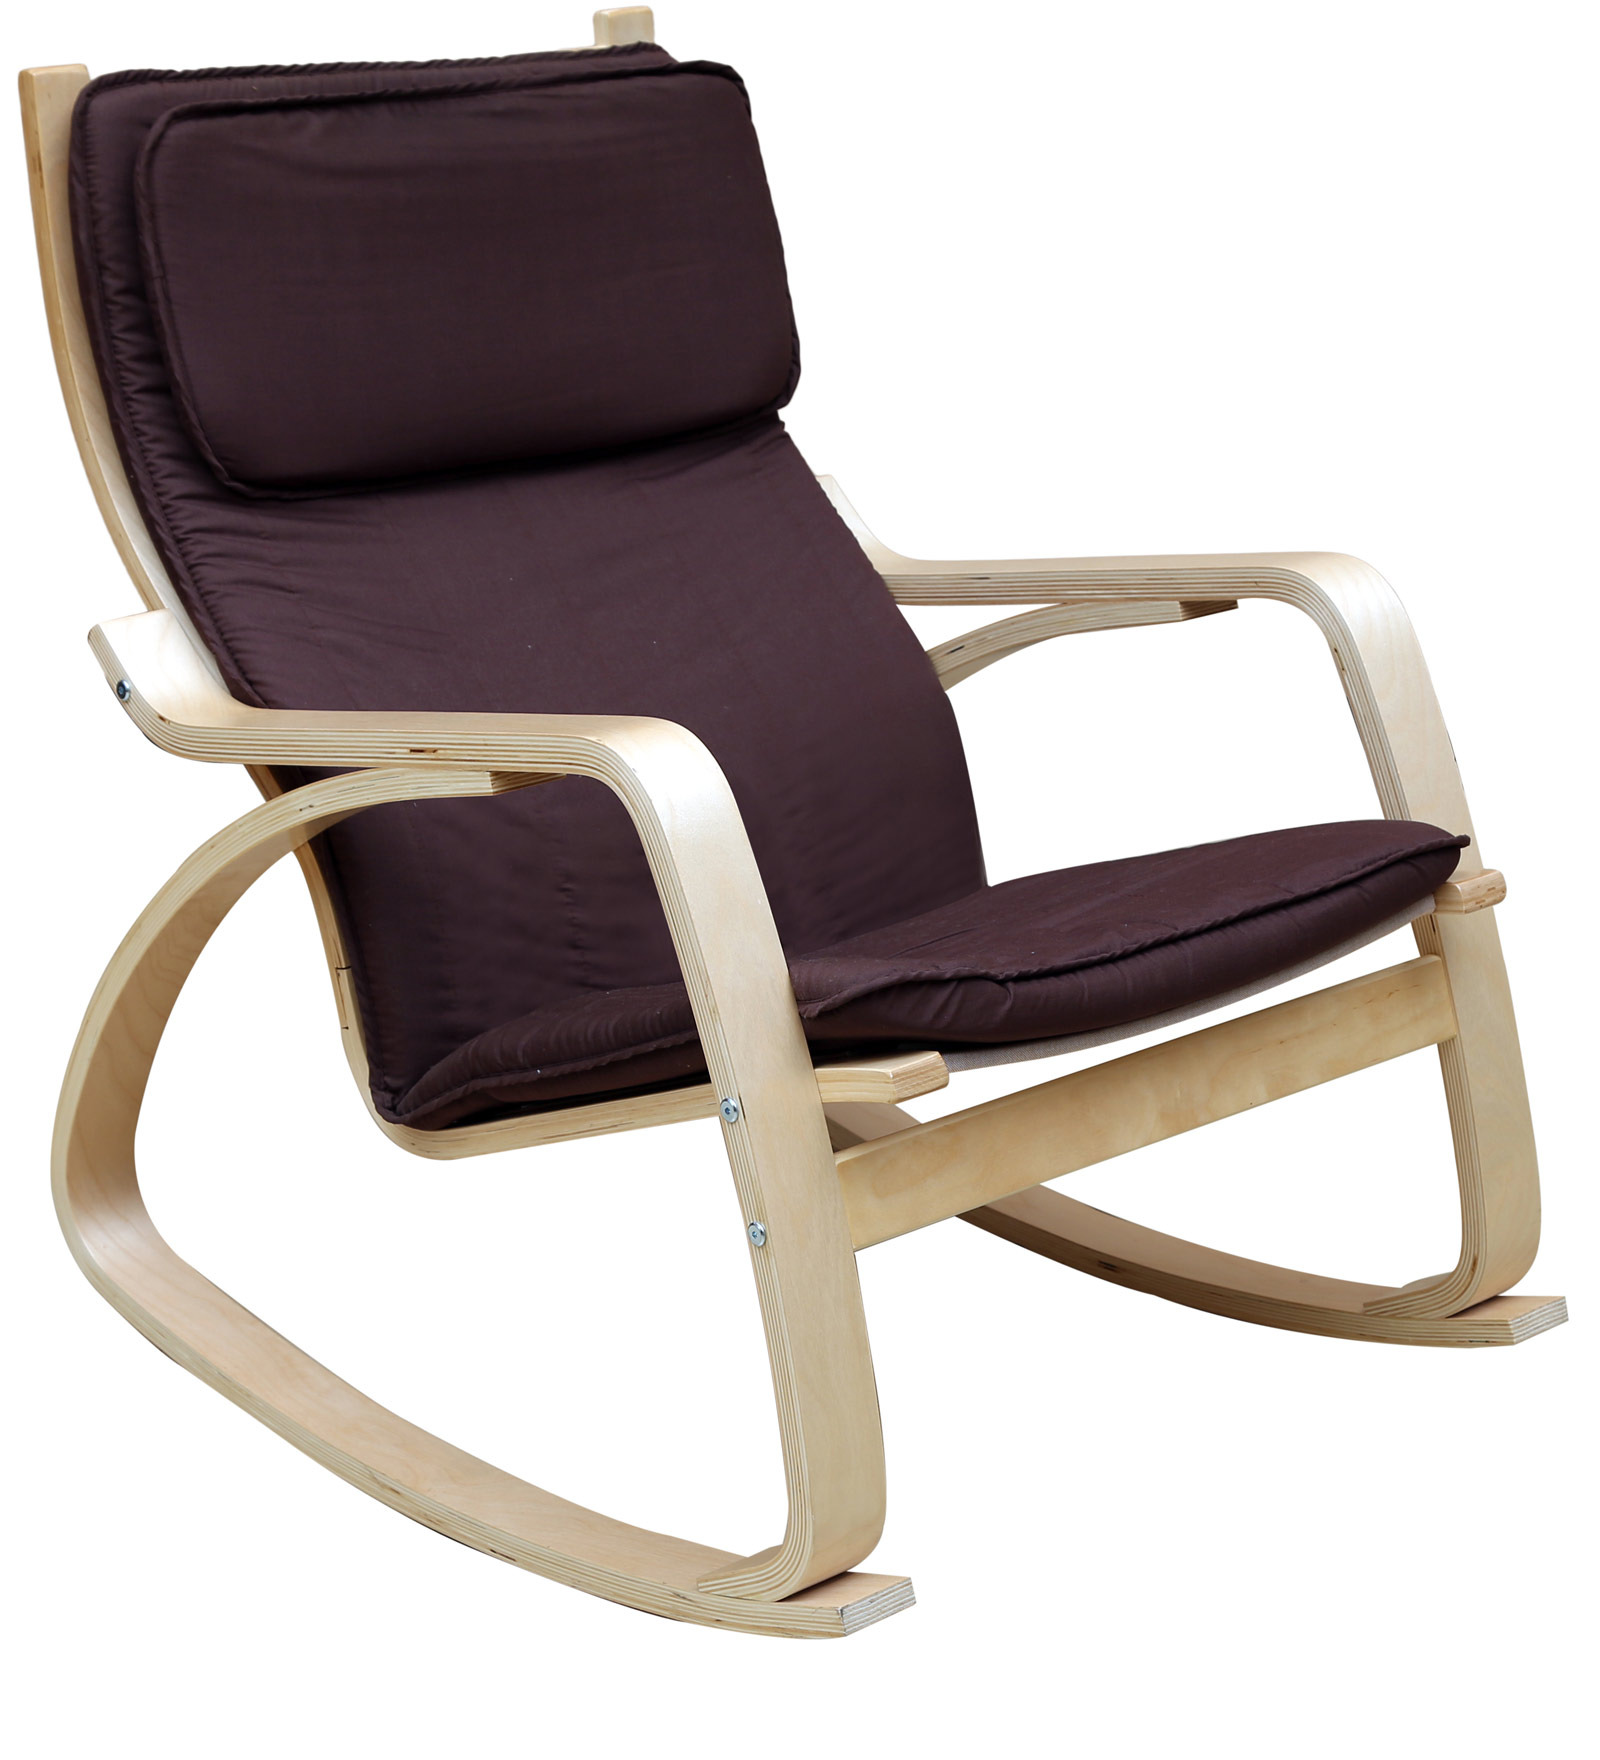Vita Rocking Chair with Brown Cushion by HomeTown: (2, 38, 1591, 1673)
